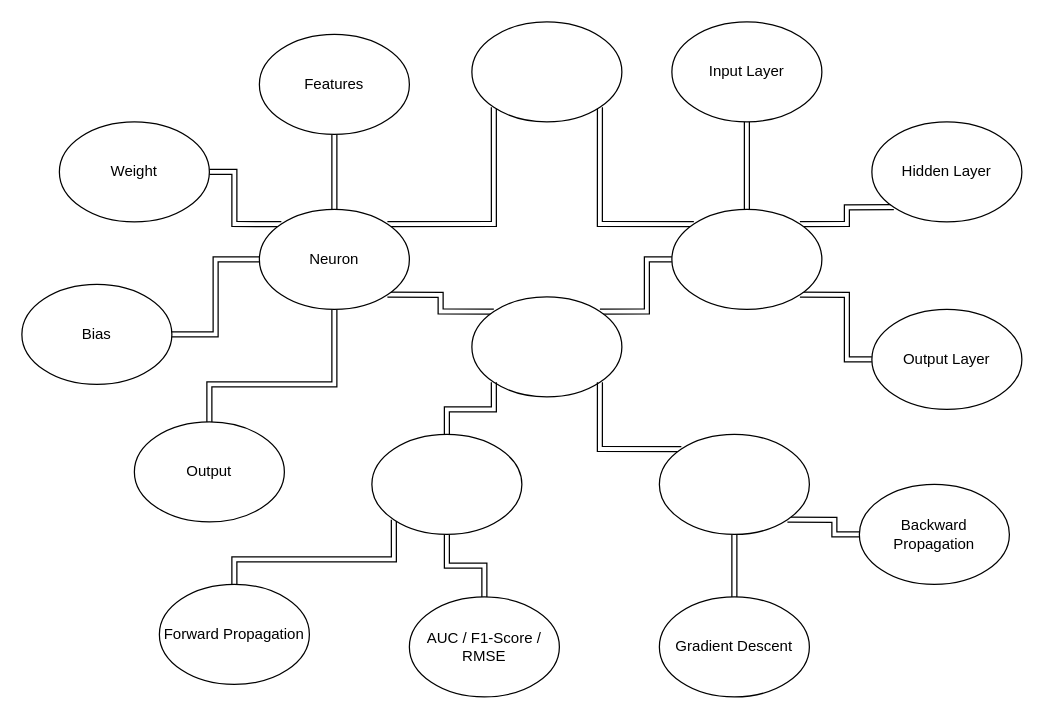
Image size: 1044x719. Some labels were removed from this diagram. The shapes that lost their labels are listed below. From the top down, each one's centre as x and y in pixels, then its label:
(x=546, y=71): Activation Function
(x=746, y=258): Layers
(x=546, y=346): Neural Network
(x=446, y=483): Testing
(x=733, y=483): Training
